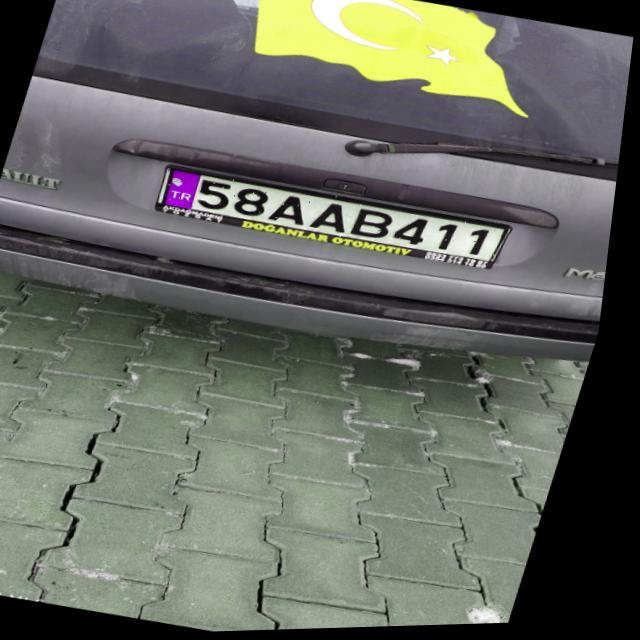license_plate: (154, 160, 522, 275)
